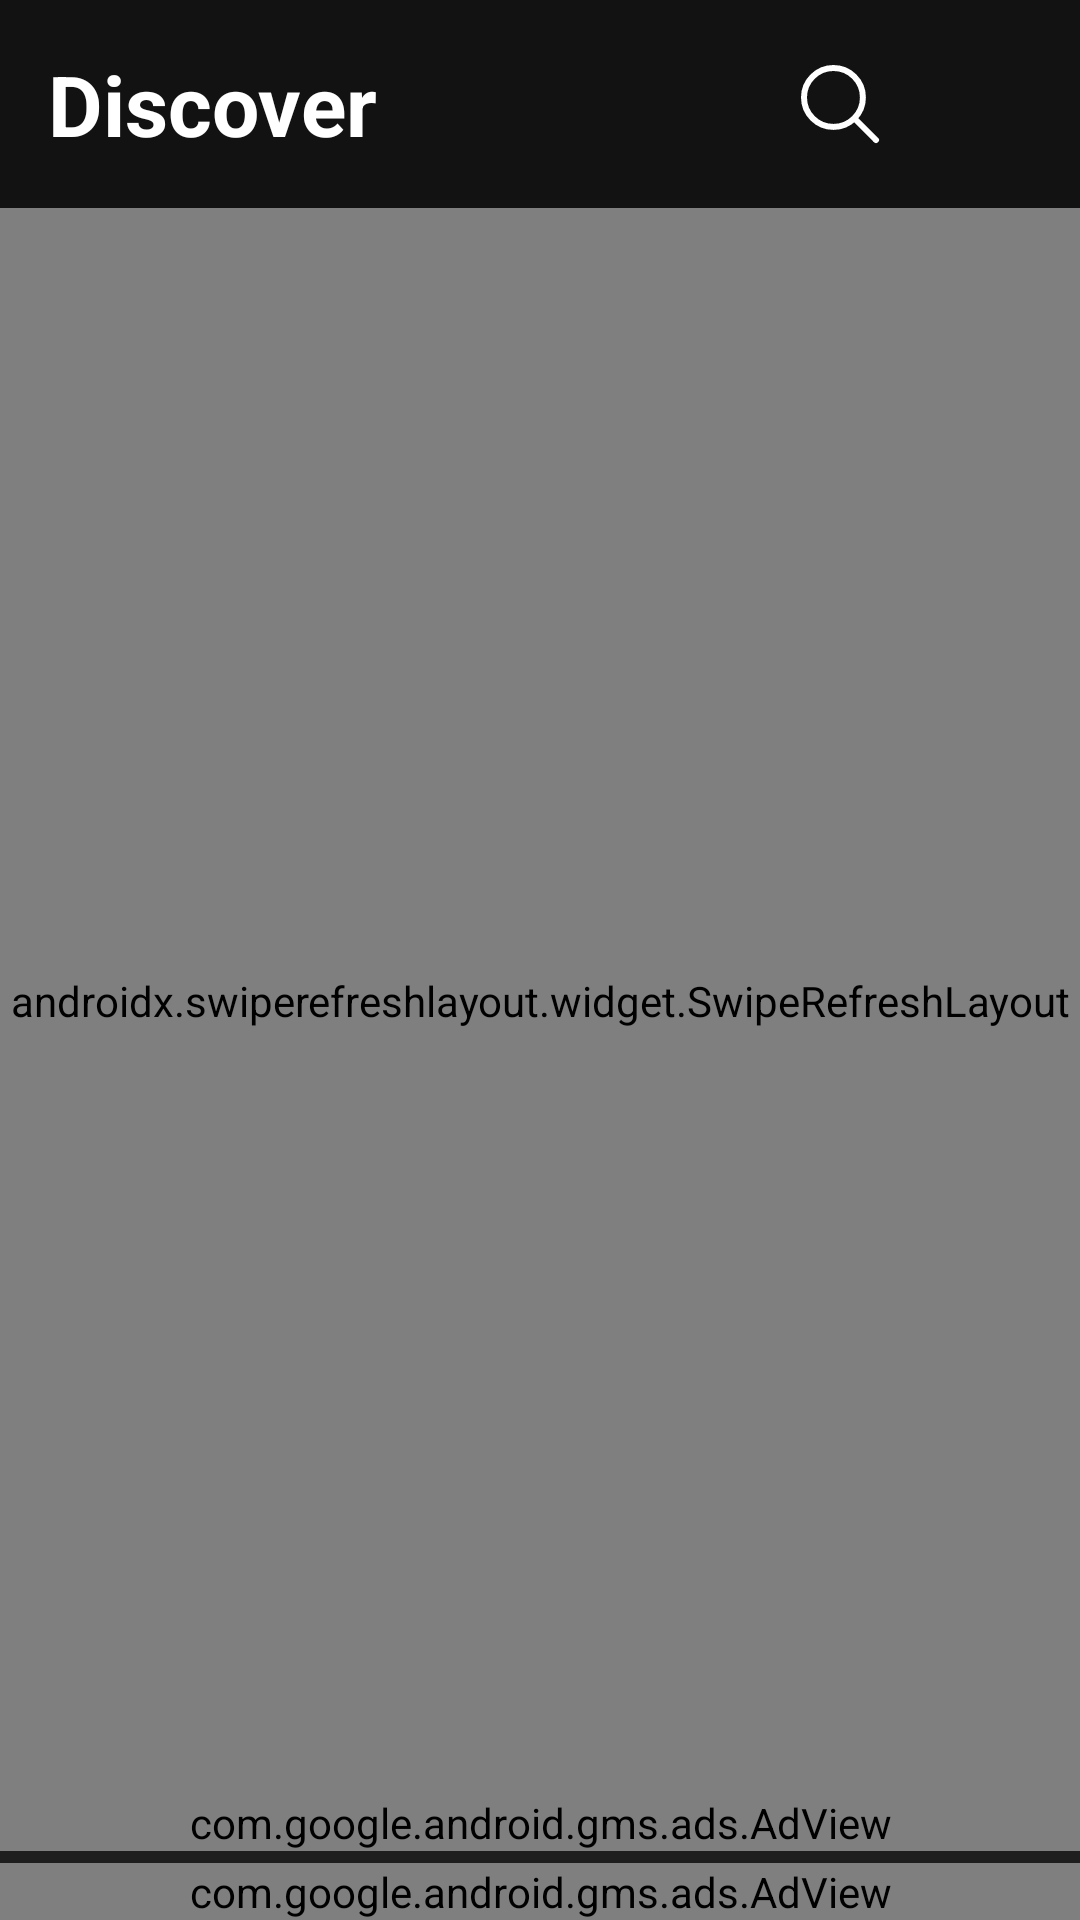

Icon bounding boxes for this 1080w x 1920h phone screenshot, format (x1, y1, x2, y2):
search: (801, 65, 879, 143)
